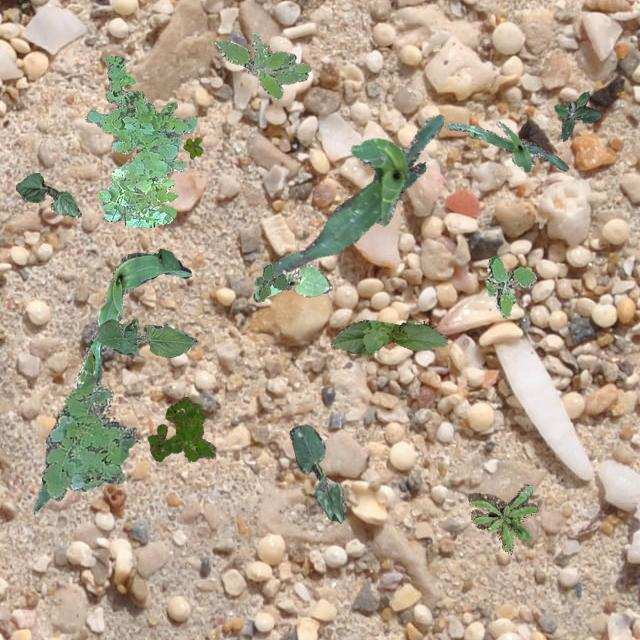crop: (272, 114, 442, 276), (72, 248, 190, 388), (444, 120, 568, 170), (32, 450, 128, 512), (288, 423, 346, 522), (329, 318, 446, 354), (96, 318, 196, 357), (252, 262, 330, 300), (15, 172, 80, 216)
weed: (84, 55, 196, 226), (40, 374, 138, 499), (213, 32, 310, 98), (467, 482, 538, 552), (146, 396, 214, 460), (484, 254, 534, 316), (554, 90, 600, 140), (253, 264, 290, 300), (182, 136, 202, 158)
